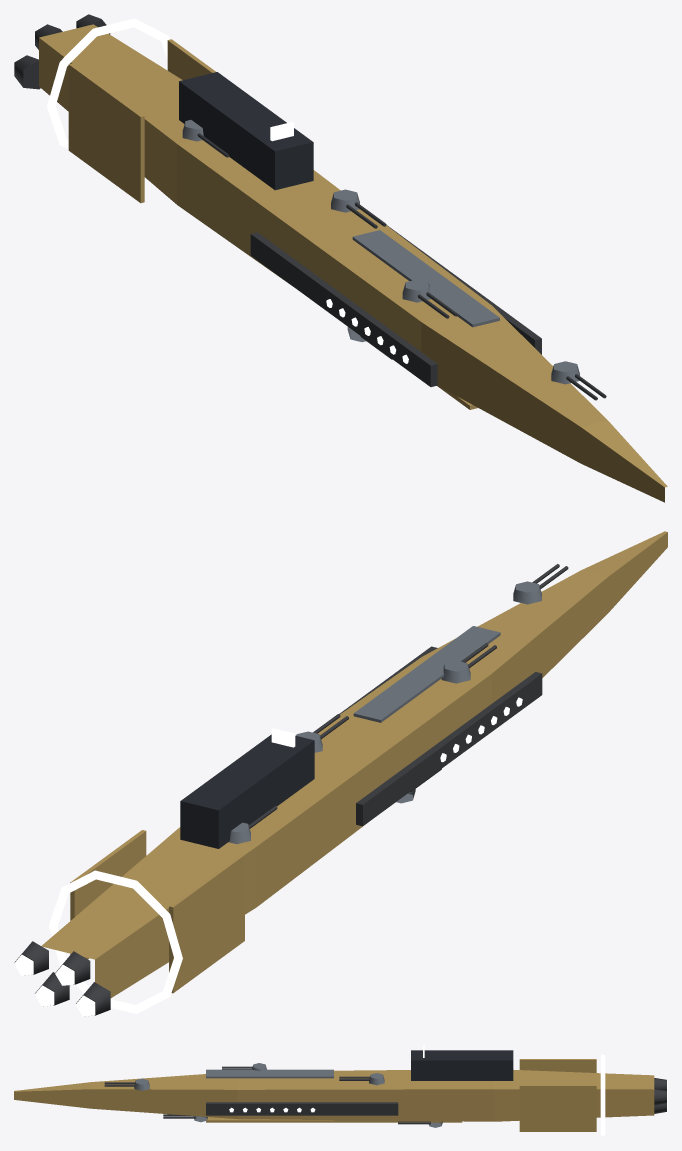
The model's file is space_ship_destroyer_mk7_lod1.glb.
3 renders of one model, top to bottom at view 1: azimuth 30°, elevation 25°; view 2: azimuth 150°, elevation 25°; view 3: azimuth 270°, elevation 25°, orthographic. The views are drawn at different scales.
Visible parts, largest first — view 1: body, turret_0, turret_4, turret_2, engine_0; view 2: body, engine_1, engine_0, engine_3, turret_0, turret_2, engine_2; view 3: body, turret_4, turret_0, turret_2, engine_3, turret_1, turret_5.
Part boxes in pixels (left/top/right/bottom): body: left=39, top=18, right=667, bottom=502; turret_0: left=551, top=361, right=606, bottom=400; turret_4: left=331, top=189, right=386, bottom=228; turret_2: left=402, top=279, right=457, bottom=318; engine_0: left=14, top=55, right=40, bottom=89; body: left=41, top=531, right=667, bottom=1013; engine_1: left=55, top=951, right=90, bottom=985; engine_0: left=75, top=982, right=110, bottom=1016; engine_3: left=14, top=941, right=48, bottom=975; turret_0: left=513, top=564, right=568, bottom=604; turret_2: left=441, top=643, right=496, bottom=683; engine_2: left=34, top=972, right=69, bottom=1006; body: left=14, top=1045, right=654, bottom=1136; turret_4: left=339, top=1073, right=384, bottom=1085; turret_0: left=104, top=1078, right=149, bottom=1090; turret_2: left=222, top=1063, right=266, bottom=1071; engine_3: left=654, top=1088, right=667, bottom=1105; turret_1: left=163, top=1114, right=207, bottom=1122; turret_5: left=398, top=1121, right=442, bottom=1127.
Size of the model in its own units: 9.8 by 10.81 by 77.3.
